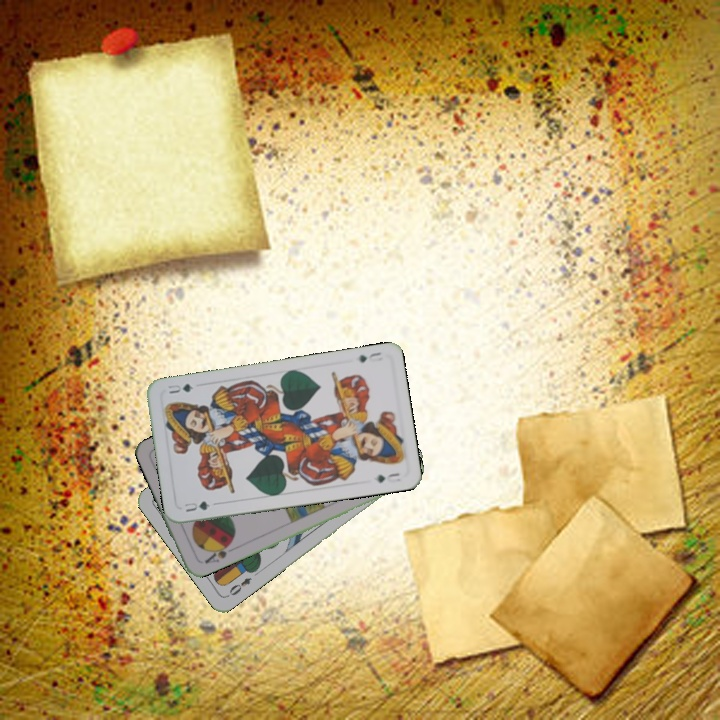EO: (223, 573, 254, 600)
GU: (180, 497, 212, 515), (354, 348, 385, 365)
SA: (200, 539, 233, 566)
